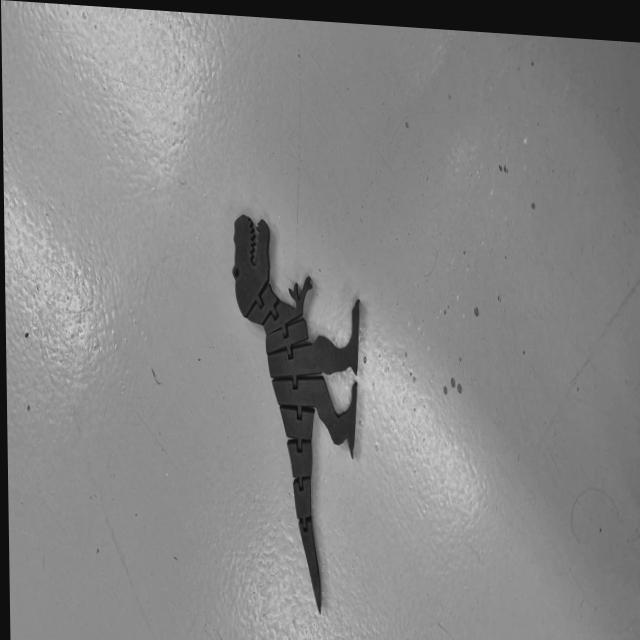dino: (230, 213, 364, 619)
